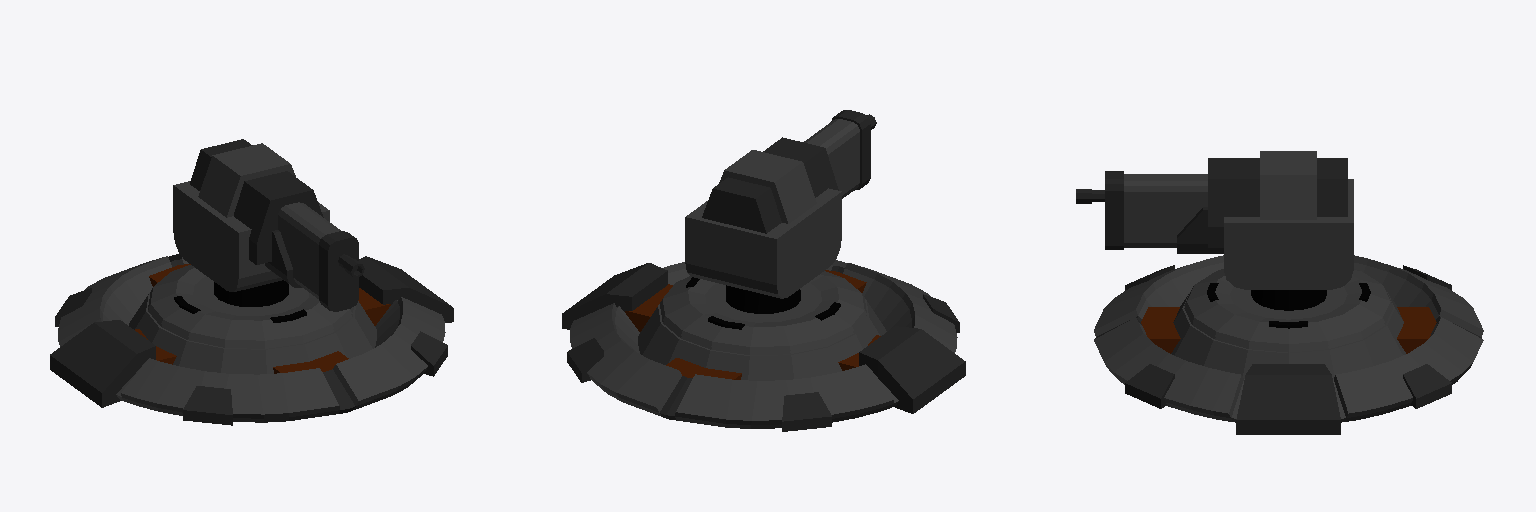
File: Turret_Gun.obj
3 views of the same model, side by side, from view 1: azimuth 30°, elevation 25°; view 2: azimuth 150°, elevation 25°; view 3: azimuth 270°, elevation 25° (orthographic).
Visible parts, largest first — view 1: Turret_Gun_Base_Cylinder.027, Turret_Gun_Top_Cylinder.026; view 2: Turret_Gun_Base_Cylinder.027, Turret_Gun_Top_Cylinder.026; view 3: Turret_Gun_Base_Cylinder.027, Turret_Gun_Top_Cylinder.026.
Boxes of the visible parts, box(x1,y1,x2,y2) form: Turret_Gun_Base_Cylinder.027: box(50, 254, 453, 425); Turret_Gun_Top_Cylinder.026: box(173, 139, 364, 311); Turret_Gun_Base_Cylinder.027: box(562, 260, 965, 431); Turret_Gun_Top_Cylinder.026: box(685, 110, 876, 313); Turret_Gun_Base_Cylinder.027: box(1094, 255, 1483, 434); Turret_Gun_Top_Cylinder.026: box(1076, 151, 1353, 310).
Bounding box in the file's own units: 1.16 × 0.587 × 1.16.